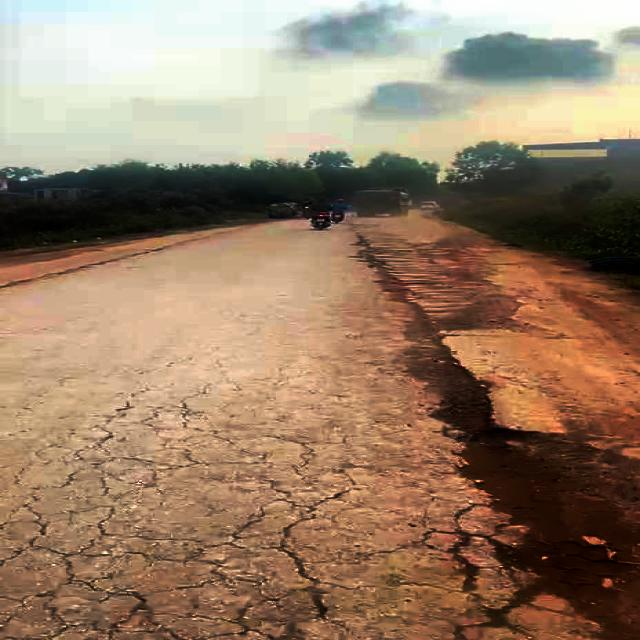pothole: (427, 383, 640, 630)
